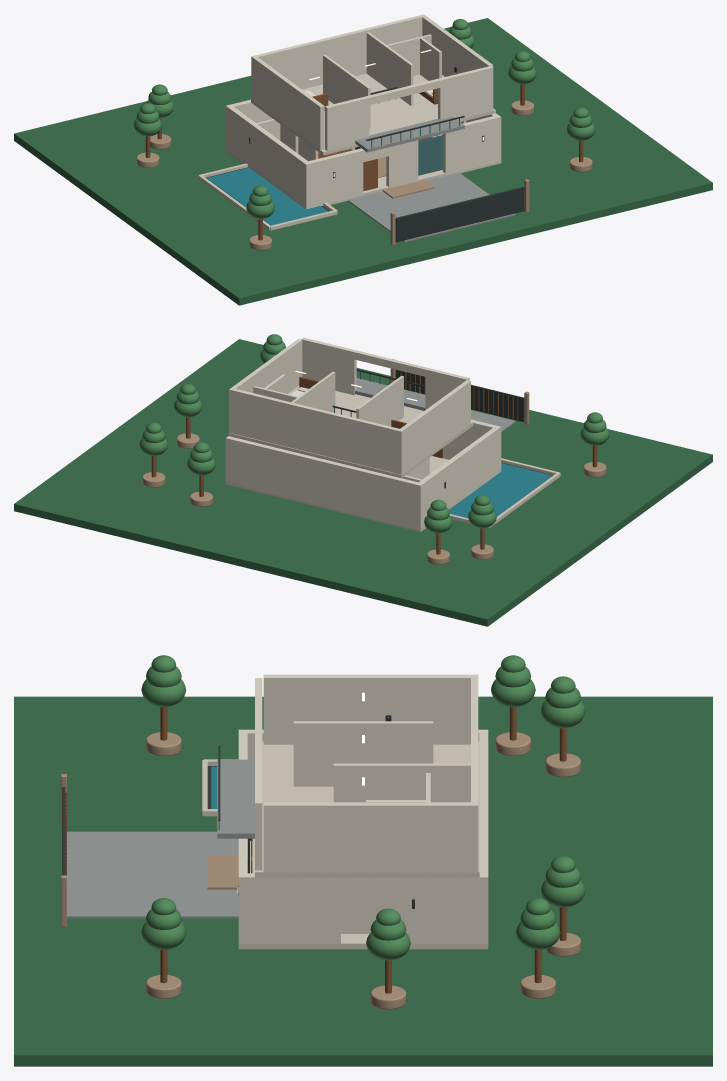
File: smartnest-luxury-indian-villa.glb
3 renders of one model, top to bottom at view 1: azimuth 30°, elevation 25°; view 2: azimuth 150°, elevation 25°; view 3: azimuth 270°, elevation 25°, orthographic. The views are drawn at different scales.
Visible parts, largest first — view 1: SITE_Ground, FF_Wall_Back, GF_Wall_Left, FF_Wall_Left, SITE_Driveway, SMART_GATE_Panel, FF_Floor, GF_Front_Left, GF_Front_Right, FF_Front_Right, SITE_Pool_Water, FF_Front_Left (+12 smaller); view 2: SITE_Ground, GF_Wall_Back, FF_Wall_Back, GF_Wall_Left, FF_Wall_Left, SITE_Pool_Water, FF_Front_Right, FF_Floor, FF_Wall_Right, SMART_GATE_Panel, FF_Partition_Bedroom_A, FF_Partition_Bedroom_B (+5 smaller); view 3: SITE_Ground, FF_Wall_Right, SITE_Driveway, FF_Wall_Left, FF_Partition_Bedroom_A, GF_Wall_Right_A, GF_Wall_Right_B, FF_Partition_Bedroom_B, FF_Floor, BALCONY_Slab, GF_Wall_Back, GF_Partition_Kitchen_Side (+19 smaller).
Part boxes in pixels (left/top/right/bottom): SITE_Ground: left=14, top=18, right=712, bottom=305; FF_Wall_Back: left=251, top=14, right=425, bottom=100; GF_Wall_Left: left=227, top=105, right=307, bottom=205; FF_Wall_Left: left=253, top=57, right=324, bottom=149; SITE_Driveway: left=348, top=172, right=515, bottom=242; SMART_GATE_Panel: left=395, top=186, right=524, bottom=242; FF_Floor: left=251, top=73, right=495, bottom=155; GF_Front_Left: left=303, top=149, right=363, bottom=208; GF_Front_Right: left=442, top=115, right=501, bottom=174; FF_Front_Right: left=438, top=66, right=493, bottom=119; SITE_Pool_Water: left=206, top=167, right=328, bottom=225; FF_Front_Left: left=325, top=96, right=369, bottom=151; SITE_Ground: left=14, top=339, right=712, bottom=626; GF_Wall_Back: left=225, top=437, right=422, bottom=530; FF_Wall_Back: left=229, top=388, right=403, bottom=474; GF_Wall_Left: left=418, top=428, right=499, bottom=526; FF_Wall_Left: left=400, top=380, right=470, bottom=473; SITE_Pool_Water: left=449, top=463, right=552, bottom=518; FF_Front_Right: left=301, top=337, right=356, bottom=395; FF_Floor: left=228, top=385, right=473, bottom=478; FF_Wall_Right: left=231, top=339, right=302, bottom=393; SMART_GATE_Panel: left=395, top=369, right=524, bottom=421; FF_Partition_Bedroom_A: left=356, top=375, right=403, bottom=426; FF_Partition_Bedroom_B: left=291, top=371, right=335, bottom=412; SITE_Ground: left=14, top=696, right=712, bottom=1066; FF_Wall_Right: left=263, top=802, right=470, bottom=873; SITE_Driveway: left=67, top=831, right=238, bottom=918; FF_Wall_Left: left=263, top=674, right=470, bottom=744; FF_Partition_Bedroom_A: left=293, top=721, right=433, bottom=786; GF_Wall_Right_A: left=241, top=873, right=340, bottom=945; GF_Wall_Right_B: left=398, top=876, right=482, bottom=945; FF_Partition_Bedroom_B: left=333, top=763, right=470, bottom=802; FF_Floor: left=255, top=741, right=479, bottom=877; BALCONY_Slab: left=217, top=759, right=254, bottom=838; GF_Wall_Back: left=479, top=729, right=488, bottom=945; GF_Partition_Kitchen_Side: left=341, top=877, right=398, bottom=933.
Size of the model in its own units: 34 by 6.88 by 28.
